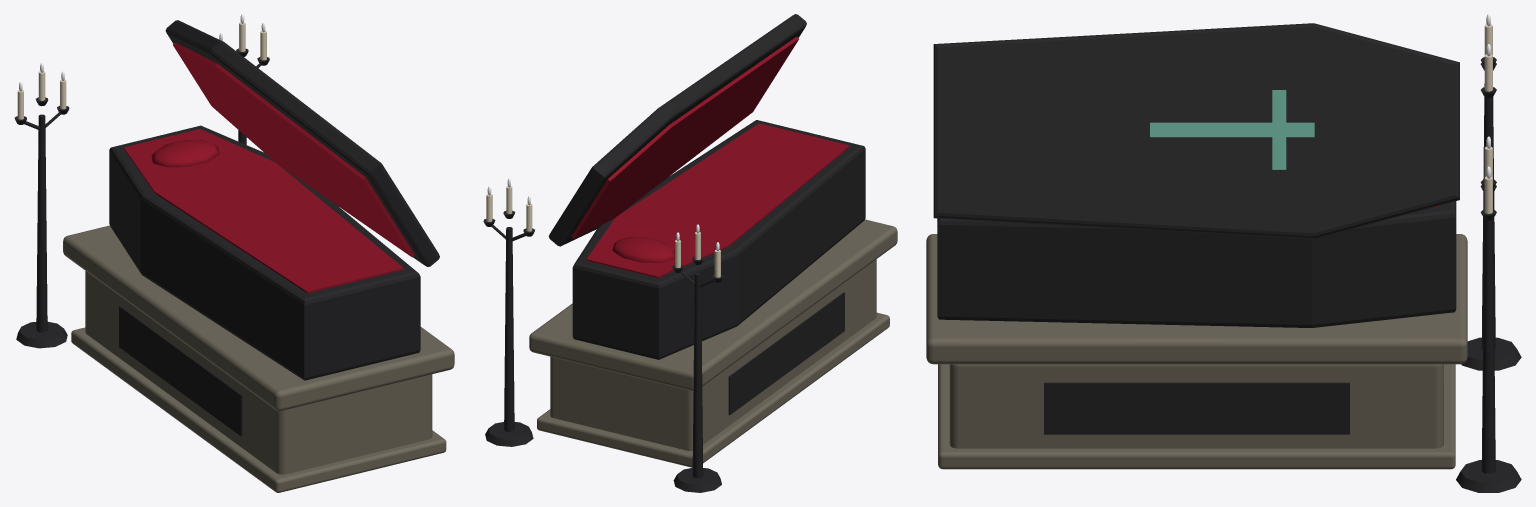
File: VAMPIRE_COFFIN.glb
The picture shows the model from 3 angles, left to right: view 1: azimuth 30°, elevation 25°; view 2: azimuth 150°, elevation 25°; view 3: azimuth 270°, elevation 25°; orthographic projection. The views are drawn at different scales.
Visible parts, largest first — view 1: tread_1, stone_0, fabric_2, bone_4; view 2: tread_1, stone_0, fabric_2, bone_4; view 3: tread_1, stone_0, copper_3, bone_4.
Part boxes in pixels (x1,y1,x2,y2): tread_1: (14,20,439,436); stone_0: (63,225,454,492); fabric_2: (124,42,414,293); bone_4: (17,22,266,119); tread_1: (483,14,865,492); stone_0: (529,219,897,467); fabric_2: (571,36,849,277); bone_4: (486,186,720,277); tread_1: (933,23,1521,492); stone_0: (926,234,1467,469); copper_3: (1150,90,1314,169); bone_4: (1484,24,1492,213).
Bounding box in the file's own units: 1.56 × 1.88 × 2.53.
